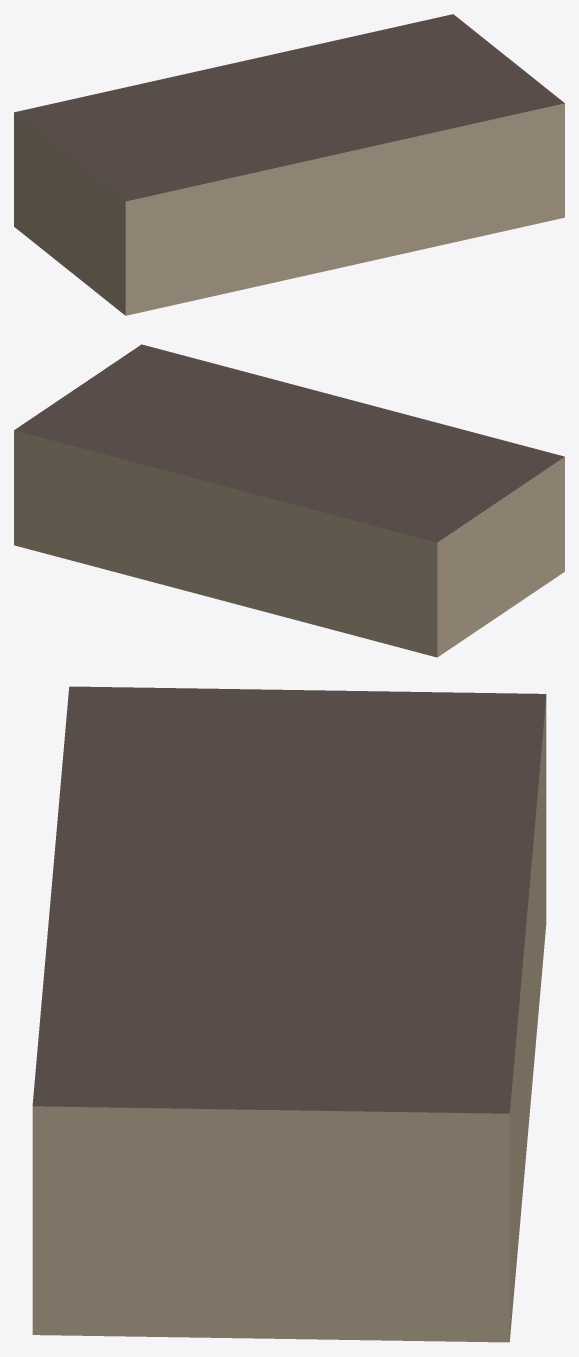
3 views of the same model, one above another, from view 1: azimuth 30°, elevation 25°; view 2: azimuth 150°, elevation 25°; view 3: azimuth 270°, elevation 25° (orthographic). The views are drawn at different scales.
Visible parts, largest first — view 1: HP-w369549508; view 2: HP-w369549508; view 3: HP-w369549508.
Boxes of the visible parts, box(x1,y1,x2,y2) form: HP-w369549508: box(14, 14, 564, 315); HP-w369549508: box(14, 344, 564, 657); HP-w369549508: box(32, 686, 546, 1342).
Size of the model in its own units: 36.06 by 9 by 18.33.
